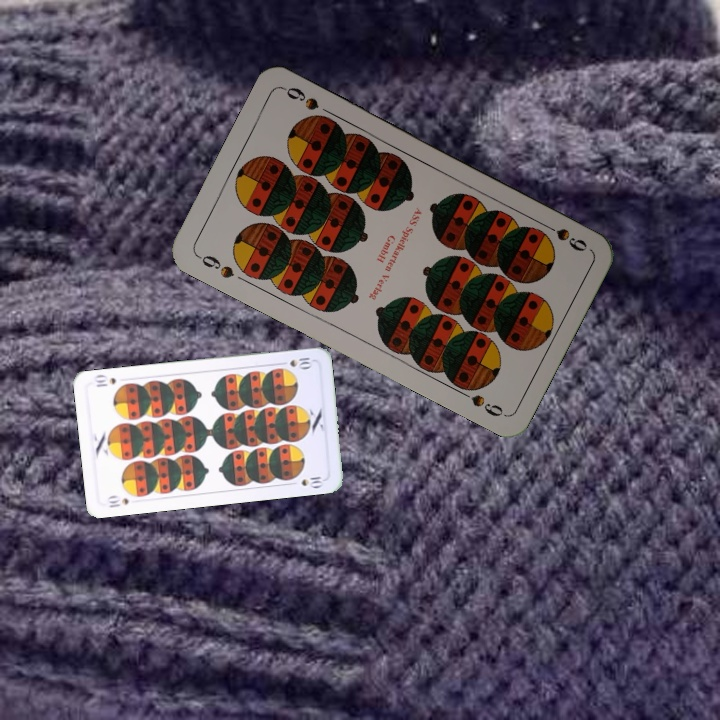S10: (275, 353, 314, 370), (103, 492, 131, 510)
S9: (536, 218, 590, 255), (193, 250, 237, 281)
